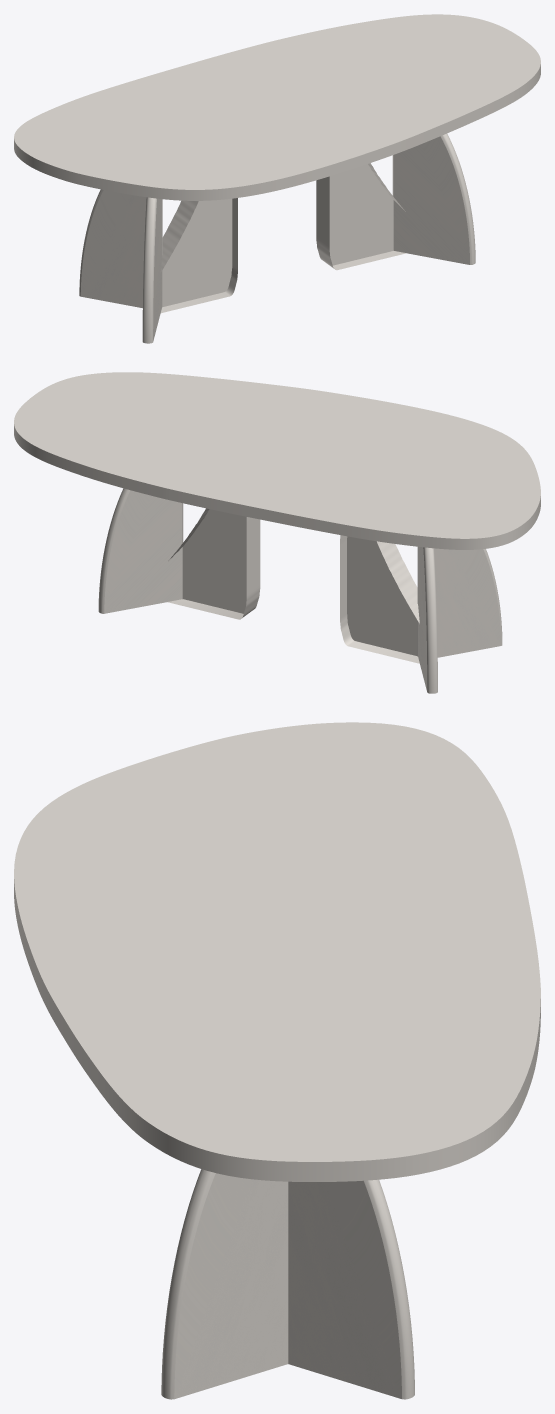
File: pearlwhite_leaf2_standard_plane.glb
The picture shows the model from 3 angles, top to bottom: view 1: azimuth 30°, elevation 25°; view 2: azimuth 150°, elevation 25°; view 3: azimuth 270°, elevation 25°; orthographic projection. The views are drawn at different scales.
Parts seen in each view (by area): view 1: standard_leaf2, plane_singleright2, plane_single1, plane_single2, plane_singleleft1, plane_singleright1; view 2: standard_leaf2, plane_singleleft2, plane_single1, plane_single2, plane_singleright1, plane_singleleft1; view 3: standard_leaf2, plane_singleright2, plane_singleleft2.
Boxes of the visible parts, x1=… form: standard_leaf2: x1=14, y1=14, x2=540, y2=200; plane_singleright2: x1=393, y1=133, x2=475, y2=264; plane_single1: x1=160, y1=198, x2=237, y2=313; plane_single2: x1=316, y1=163, x2=405, y2=270; plane_singleleft1: x1=79, y1=189, x2=162, y2=308; plane_singleright1: x1=142, y1=197, x2=162, y2=343; standard_leaf2: x1=14, y1=372, x2=540, y2=549; plane_singleleft2: x1=98, y1=488, x2=183, y2=613; plane_single1: x1=340, y1=535, x2=419, y2=663; plane_single2: x1=167, y1=508, x2=260, y2=619; plane_singleright1: x1=417, y1=547, x2=502, y2=657; plane_singleleft1: x1=418, y1=546, x2=437, y2=693; standard_leaf2: x1=14, y1=722, x2=540, y2=1181; plane_singleright2: x1=161, y1=1169, x2=288, y2=1399; plane_singleleft2: x1=288, y1=1179, x2=414, y2=1399.
Size of the model in its own units: 7.5 by 2.52 by 3.8.
Materials: 1 (1 with a texture image).
